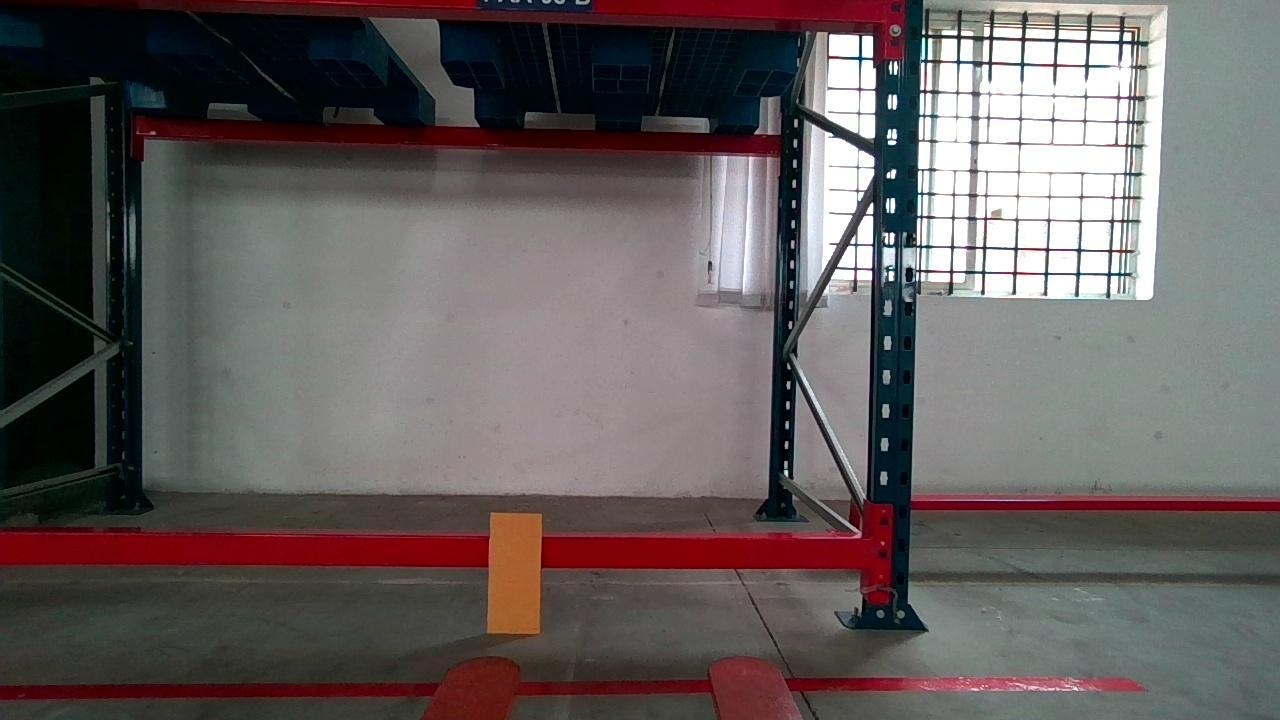h_rack: (0, 529, 870, 566)
orange_strip: (486, 511, 540, 637)
red_line: (2, 673, 1147, 705)
